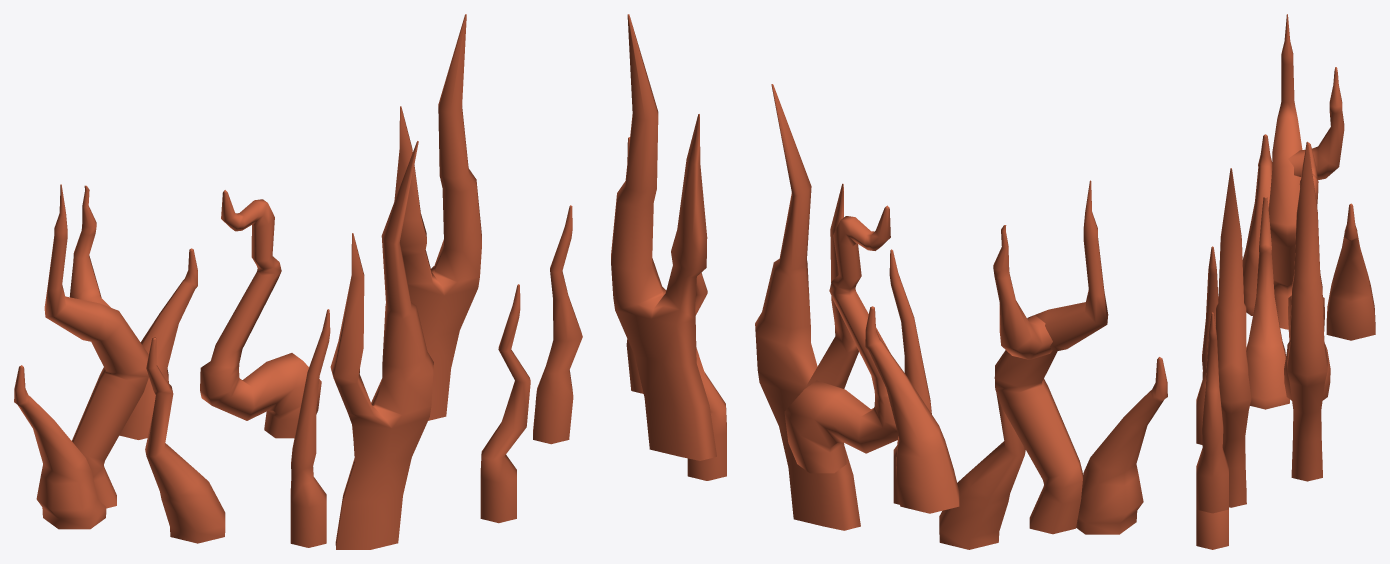
File: Spikes.fbx
3 views of the same model, side by side, from view 1: azimuth 30°, elevation 25°; view 2: azimuth 150°, elevation 25°; view 3: azimuth 270°, elevation 25° (orthographic). The views are drawn at different scales.
Parts seen in each view (by area): view 1: spikes; view 2: spikes; view 3: spikes.
Part boxes in pixels (bbox=[...]): spikes: bbox=[14, 14, 582, 549]; spikes: bbox=[611, 14, 1167, 549]; spikes: bbox=[1196, 14, 1375, 549].
Size of the model in its own units: 146 by 120 by 47.07.
